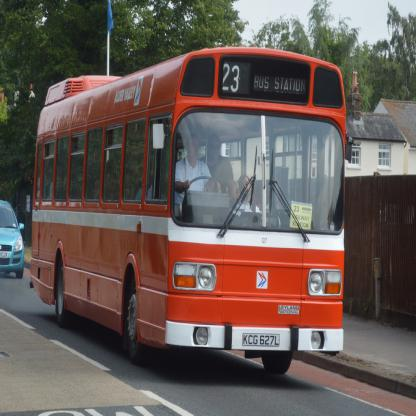Bus: (29, 46, 354, 374)
